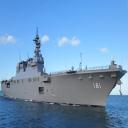Portanaves: (2, 27, 128, 109)
